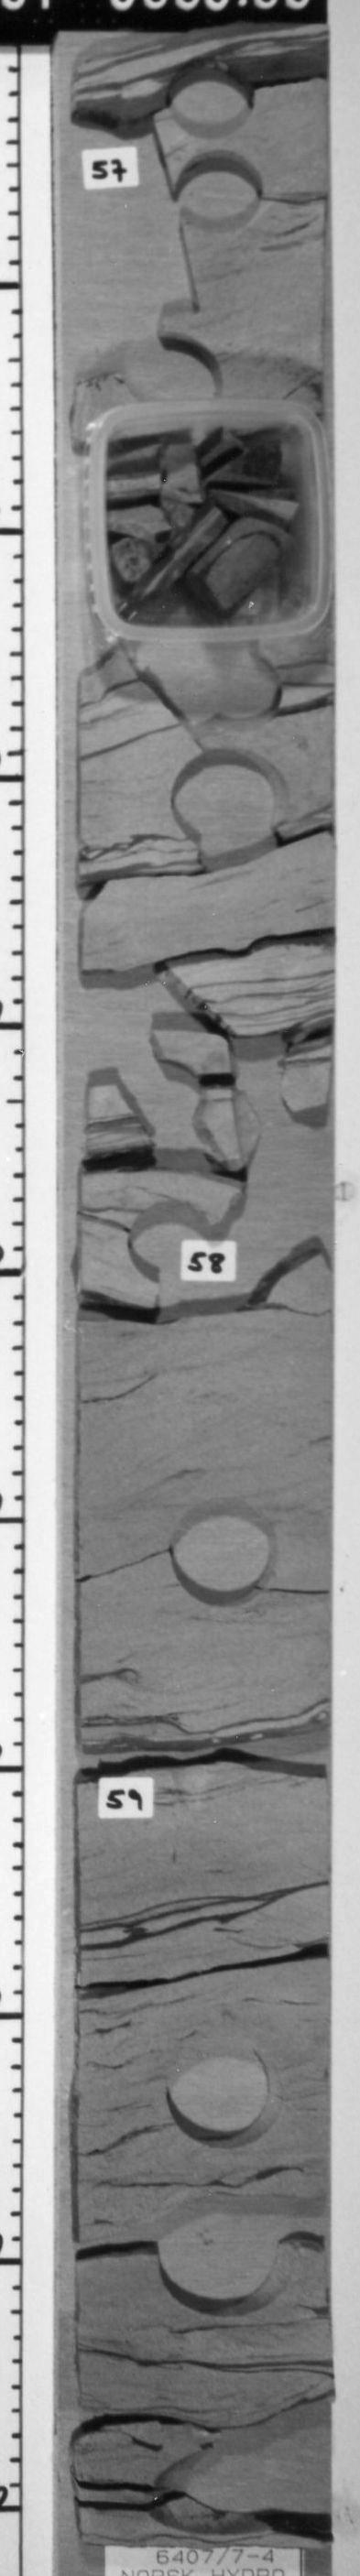hplug: (141, 2436, 275, 2541), (158, 54, 263, 145), (115, 1051, 220, 1142), (118, 1193, 217, 1288), (173, 146, 270, 237), (209, 654, 296, 736)
scal: (146, 2187, 302, 2325), (156, 2026, 289, 2160), (171, 746, 309, 866), (161, 1490, 281, 1612), (115, 335, 237, 402)
vplug: (220, 1017, 316, 1170), (214, 1709, 332, 1791), (104, 105, 173, 192)
